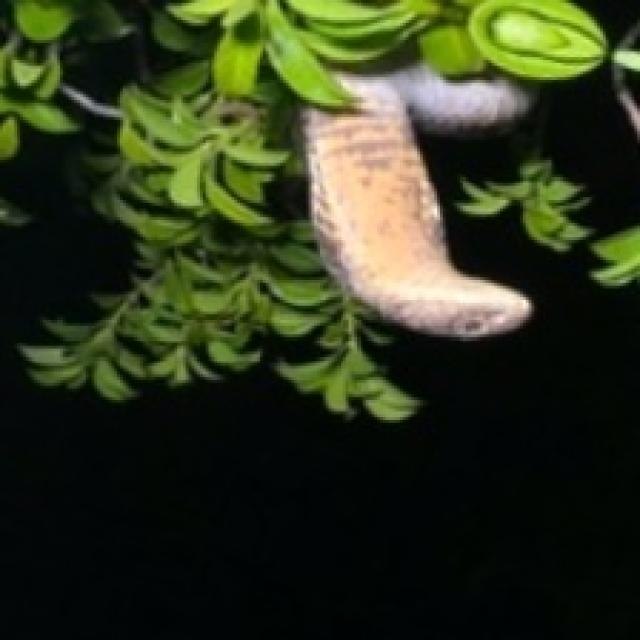king cobra: (303, 74, 529, 334)
